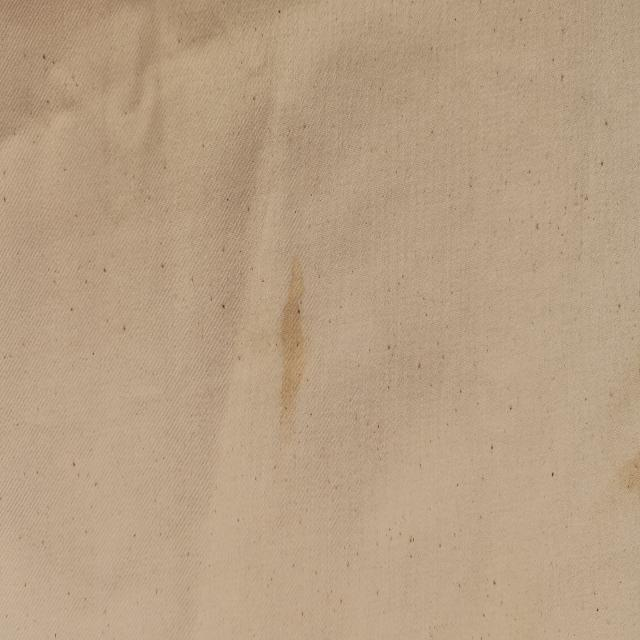taaaches: (261, 219, 325, 451)
